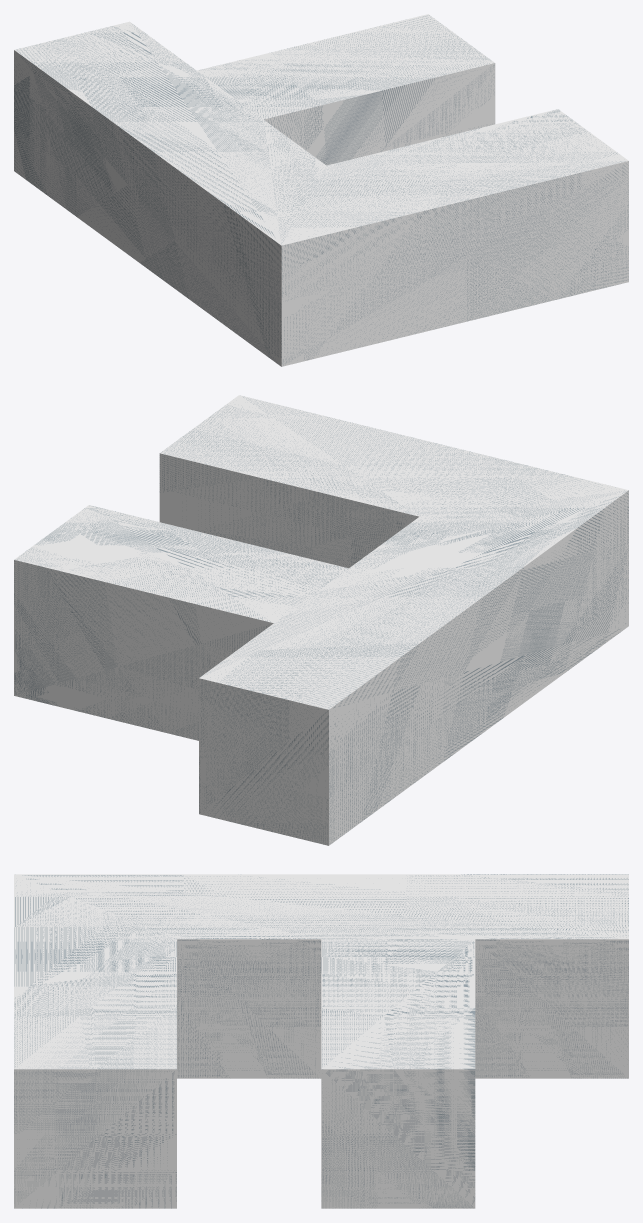
File: KeyFrag5.fbx
The picture shows the model from 3 angles, top to bottom: view 1: azimuth 30°, elevation 25°; view 2: azimuth 150°, elevation 25°; view 3: azimuth 270°, elevation 25°; orthographic projection. The views are drawn at different scales.
Parts seen in each view (by area): view 1: Model; view 2: Model; view 3: Model.
Part boxes in pixels (x1=…): Model: x1=14, y1=14, x2=628, y2=366; Model: x1=14, y1=395, x2=628, y2=845; Model: x1=14, y1=874, x2=628, y2=1208.
Bounding box in the file's own units: 75 × 25 × 100.
